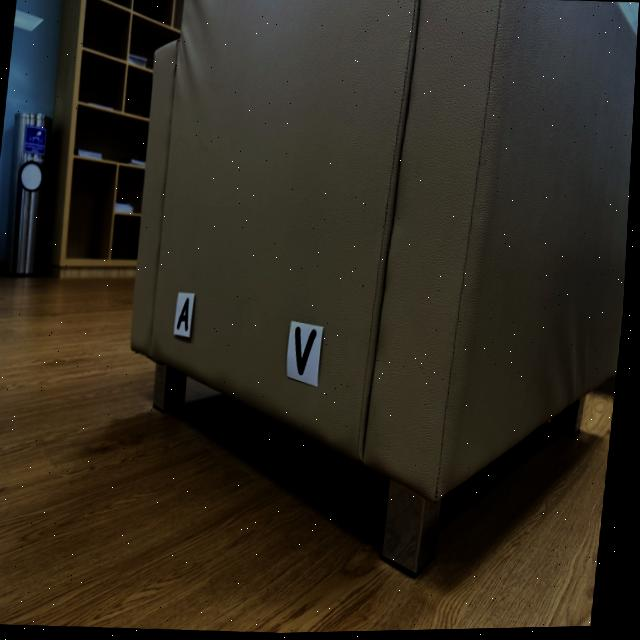A: (181, 299, 192, 332)
V: (298, 328, 320, 376)
